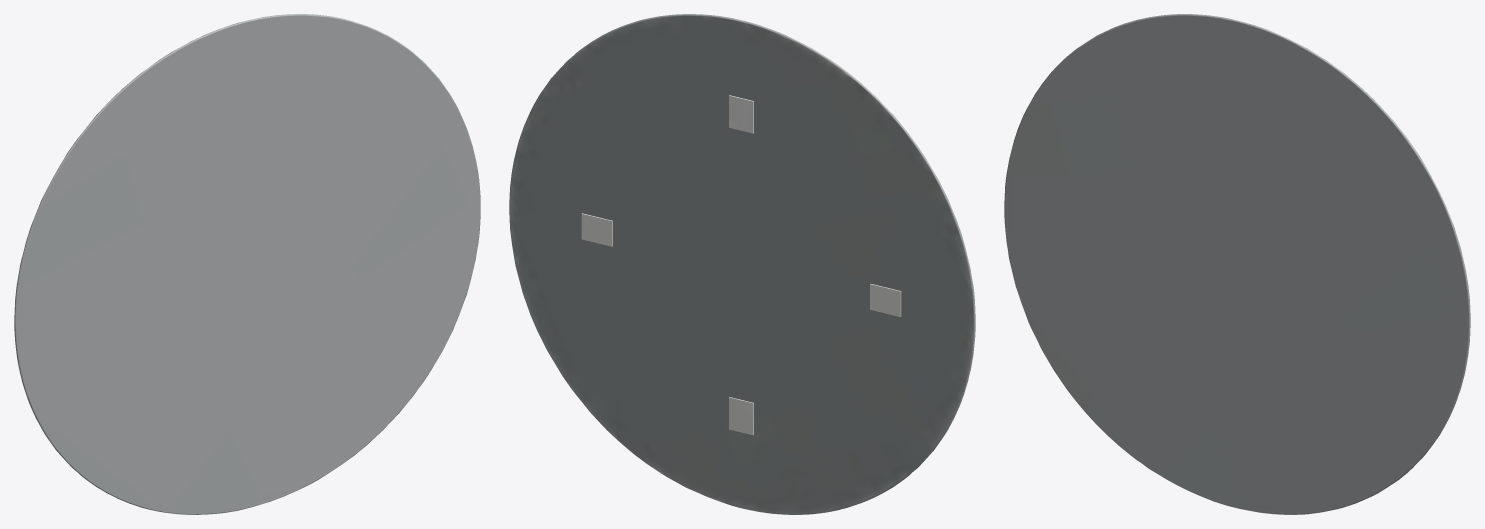
File: 13 - BLÅSER - 鏡子，38 公分 IKEA 線上購物.glb
3 renders of one model, left to right at view 1: azimuth 30°, elevation 25°; view 2: azimuth 150°, elevation 25°; view 3: azimuth 330°, elevation 25°, orthographic.
Visible parts, largest first — view 1: 2; view 2: 1, 2; view 3: 2.
Boxes of the visible parts, x1=… form: 2: x1=14, y1=14, x2=480, y2=514; 1: x1=509, y1=16, x2=973, y2=514; 2: x1=509, y1=14, x2=975, y2=514; 2: x1=1004, y1=14, x2=1470, y2=514.
Size of the model in its own units: 0.3798 by 0.38 by 0.00291.
2 materials, 2 textured.
